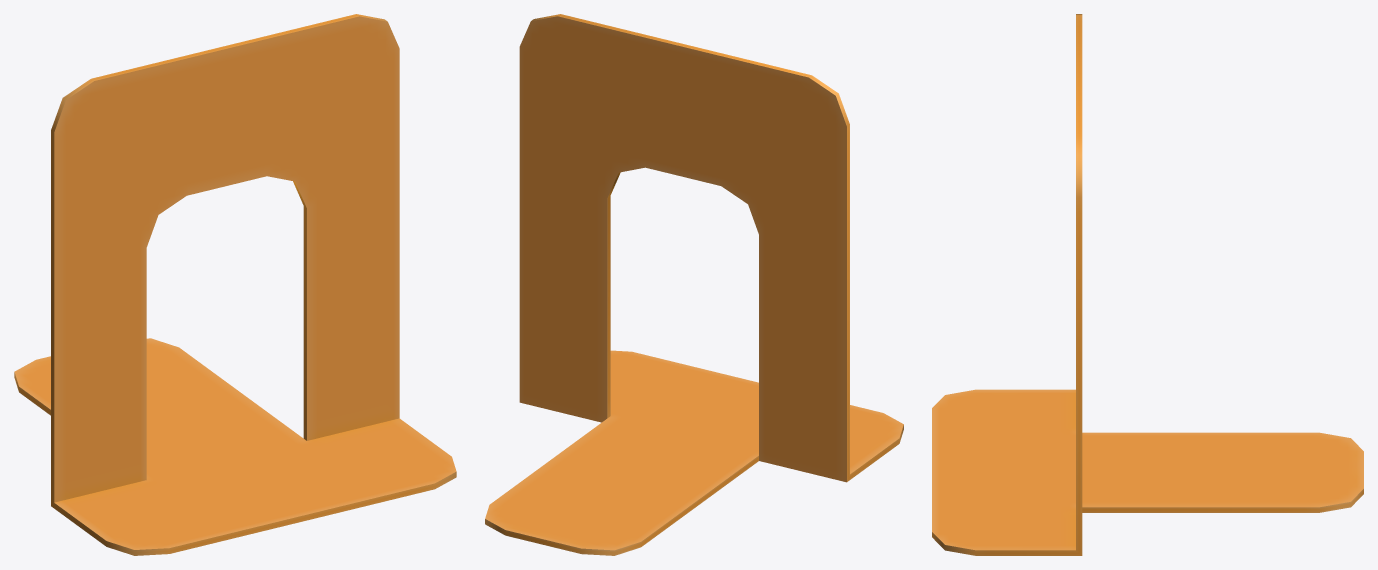
The model's file is jsf_BookEnd_04.fbx.
The picture shows the model from 3 angles, left to right: view 1: azimuth 30°, elevation 25°; view 2: azimuth 150°, elevation 25°; view 3: azimuth 270°, elevation 25°; orthographic projection. The views are drawn at different scales.
Visible parts, largest first — view 1: jsf_BookEnd_04; view 2: jsf_BookEnd_04; view 3: jsf_BookEnd_04.
Boxes of the visible parts, x1,y1,x2,y2 form: jsf_BookEnd_04: [14, 14, 456, 555]; jsf_BookEnd_04: [485, 14, 903, 555]; jsf_BookEnd_04: [932, 14, 1363, 555].
Bounding box in the file's own units: 11.77 × 13.6 × 13.36.
